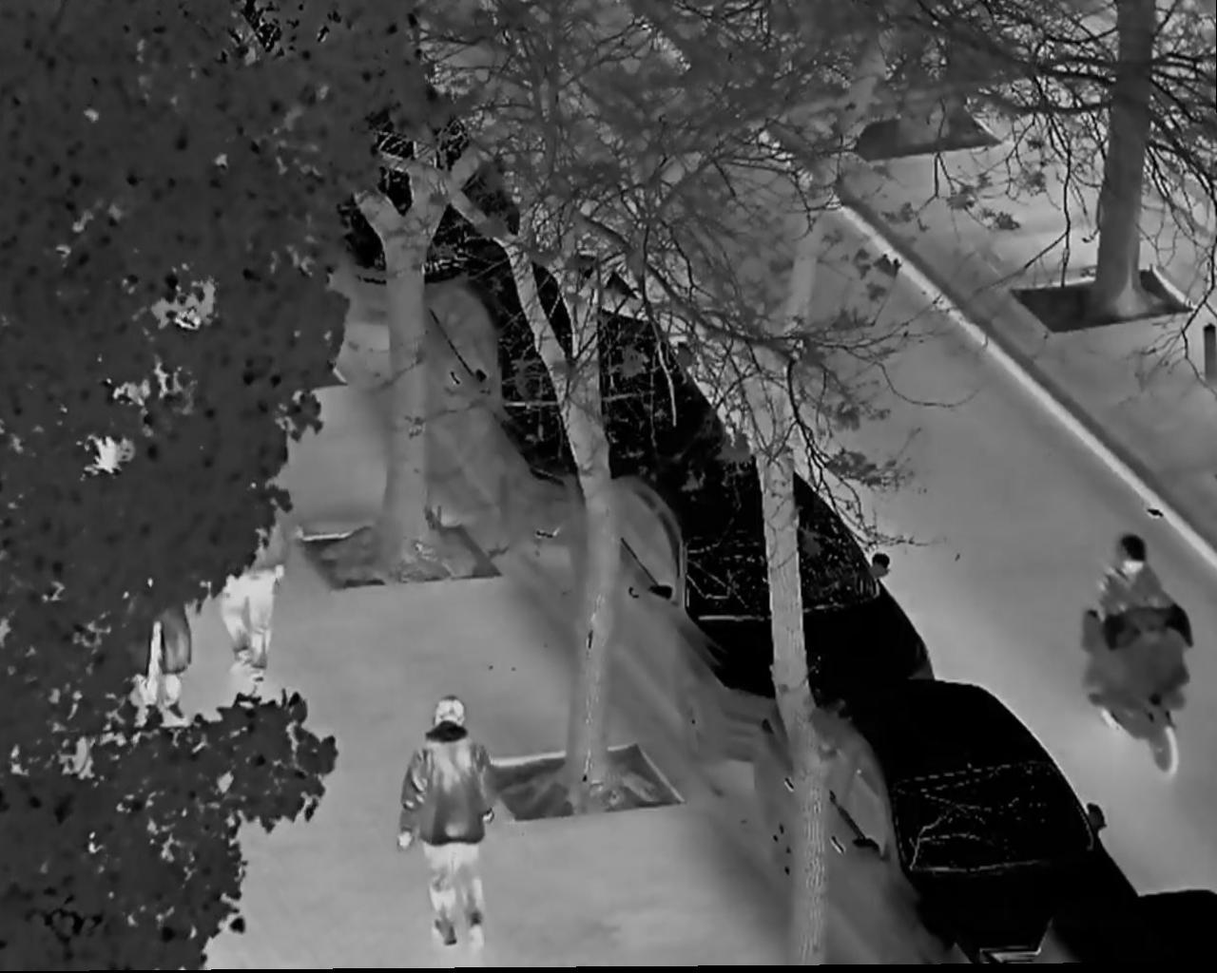person: (396, 696, 495, 948), (1090, 534, 1177, 733), (214, 473, 285, 681), (125, 508, 188, 717)
